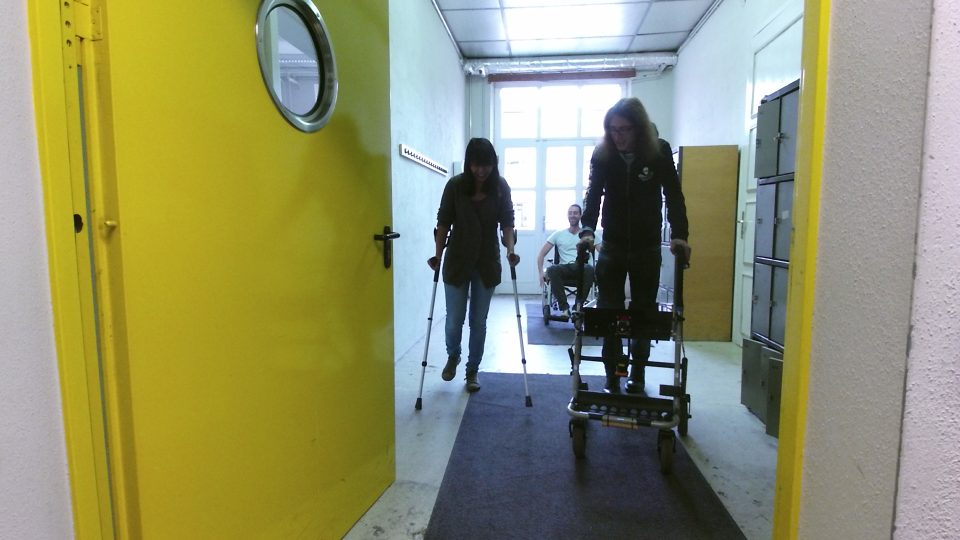crutches: (398, 133, 549, 413)
wheelchair: (539, 200, 605, 328)
